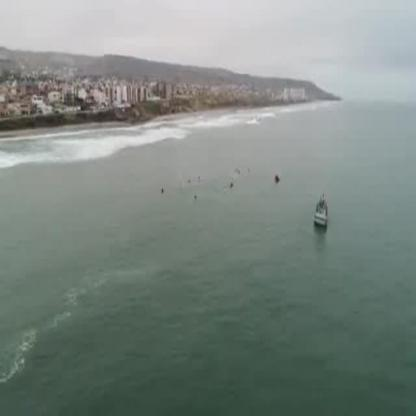Boat: (310, 196, 334, 228)
